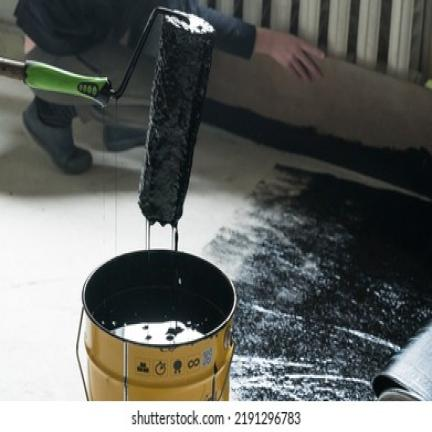besi_tidak_karat: (82, 250, 236, 401), (0, 8, 191, 106)
